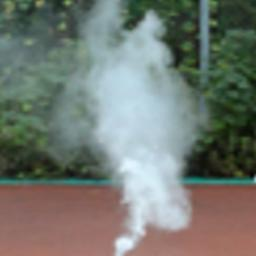smoke: (0, 0, 208, 255)
